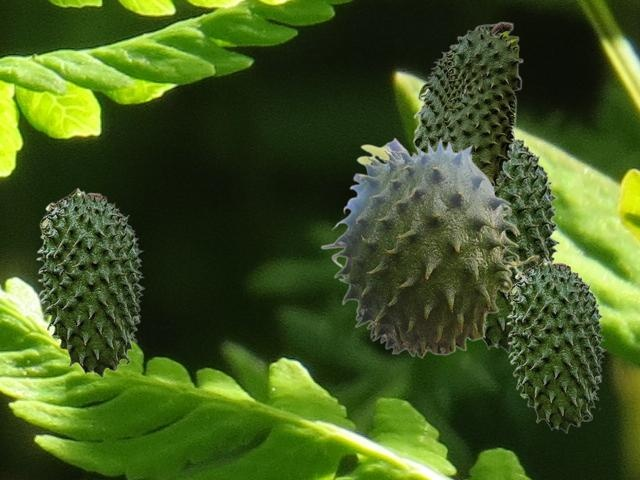guyabano: (320, 135, 539, 358), (36, 187, 144, 377), (468, 133, 560, 352), (412, 21, 522, 189), (506, 257, 605, 432)
